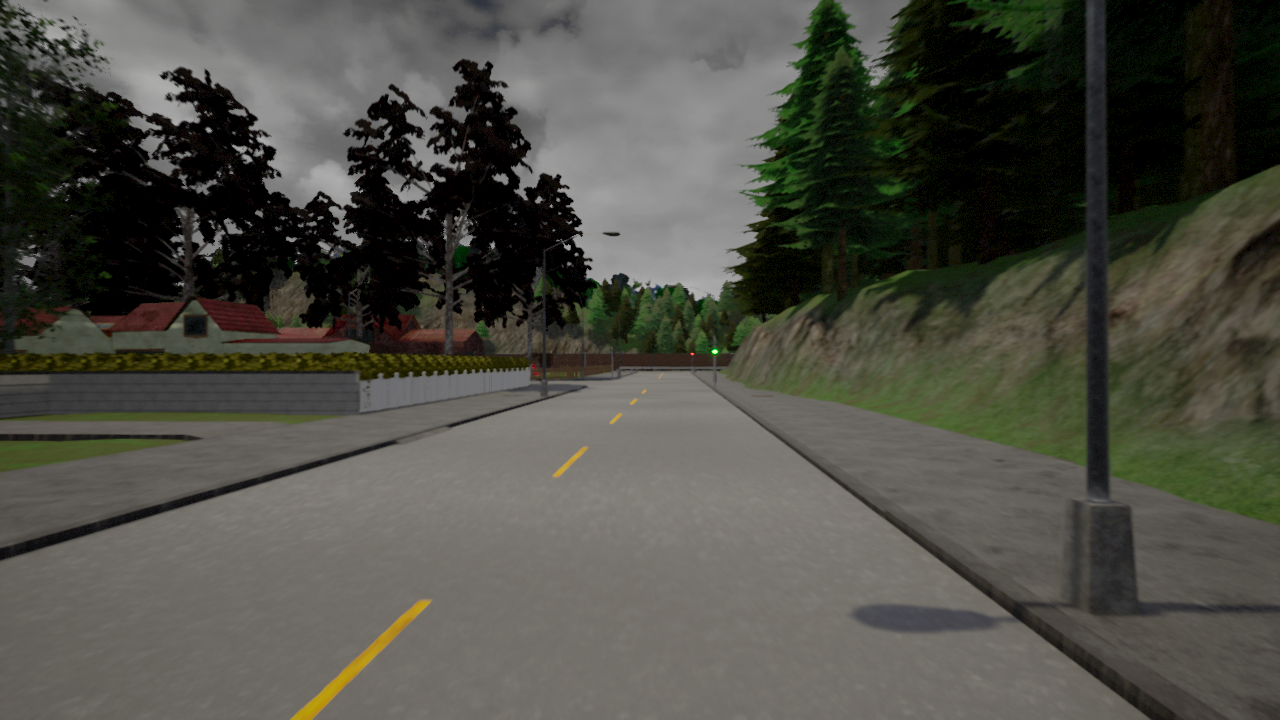green: (711, 338, 718, 355)
